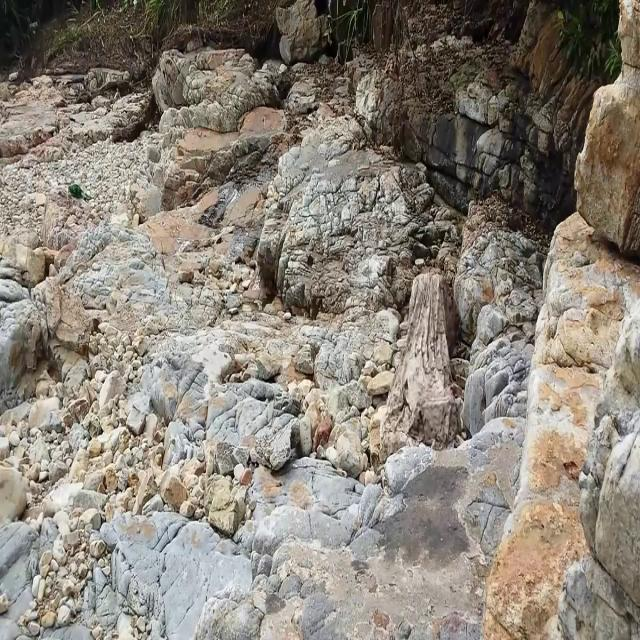Camouflage: (383, 273, 457, 458)
